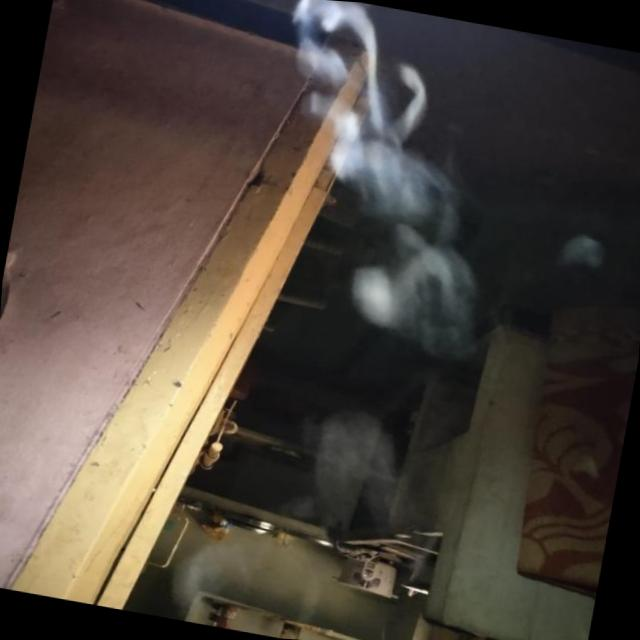smoke: (239, 0, 488, 335)
